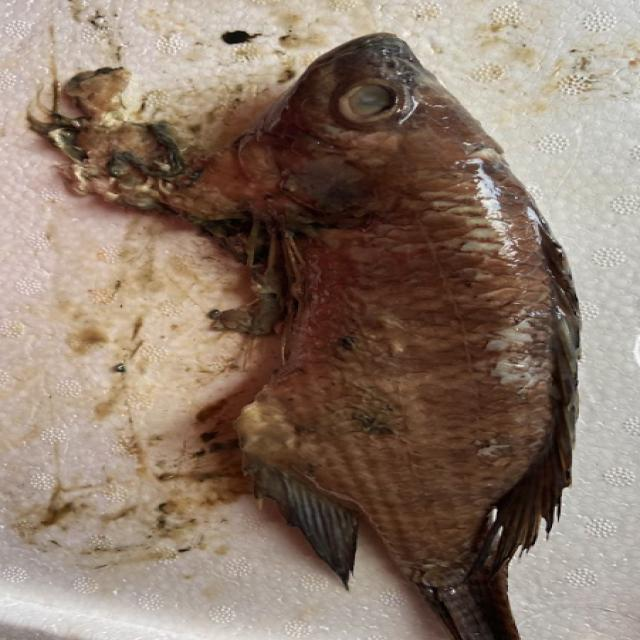Eye -0-: (338, 79, 422, 126)
Skin -0-: (187, 185, 576, 522)
Tilapia-NF-0-5-: (11, 29, 594, 640)
